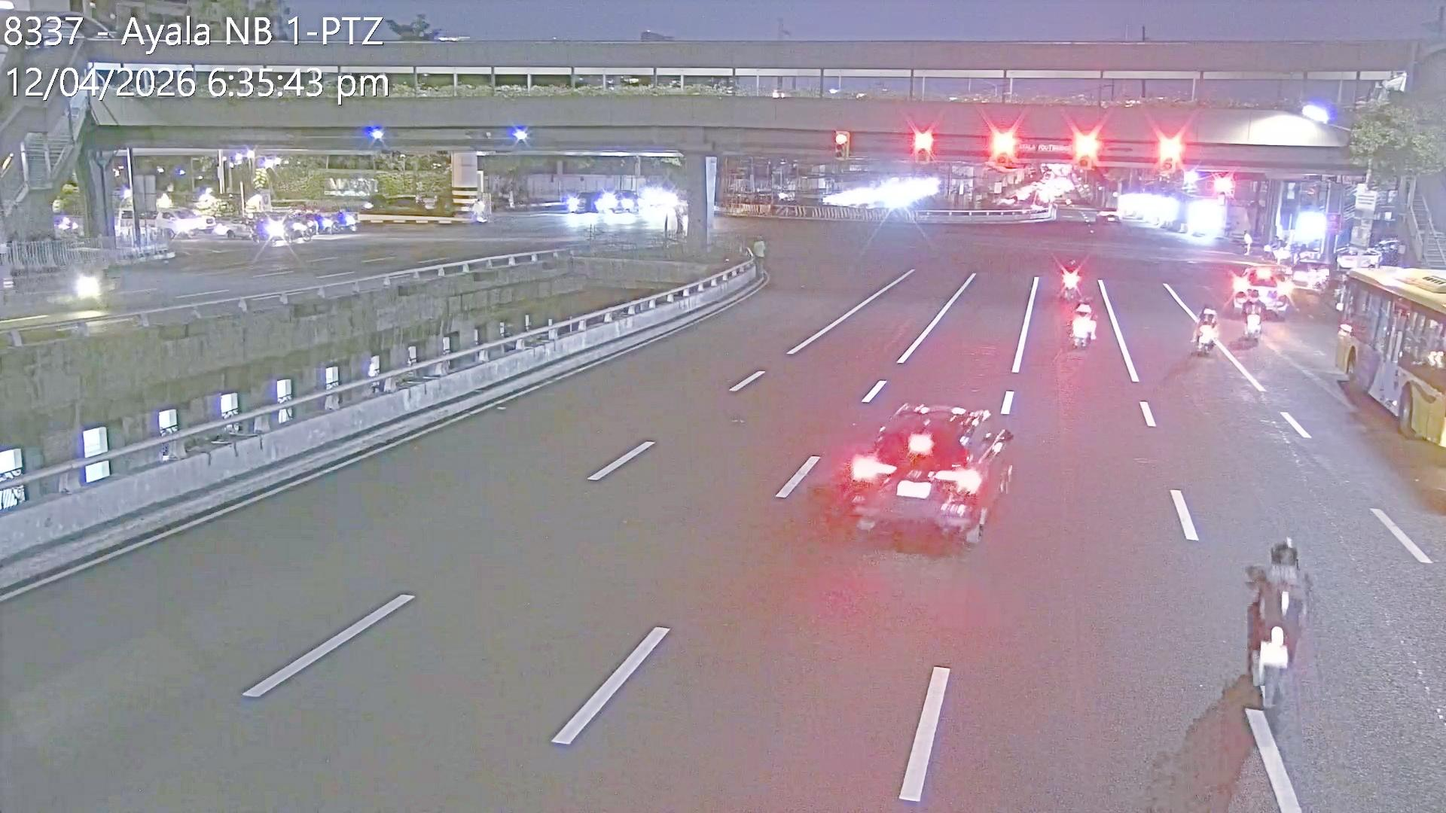Car: (837, 403, 1004, 549), (1231, 261, 1292, 314), (152, 208, 212, 237), (205, 213, 262, 239)
Motor: (1240, 540, 1309, 705), (1066, 300, 1095, 348), (1239, 295, 1264, 342), (1193, 306, 1219, 350), (1061, 257, 1084, 297)
Not Accident: (841, 391, 1012, 557), (1231, 260, 1292, 343), (1059, 255, 1094, 350)
